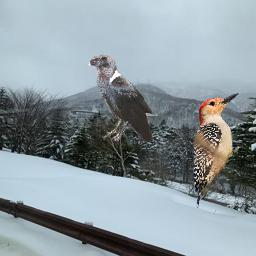Crow: (88, 54, 154, 141)
Woodpecker: (193, 92, 239, 208)
